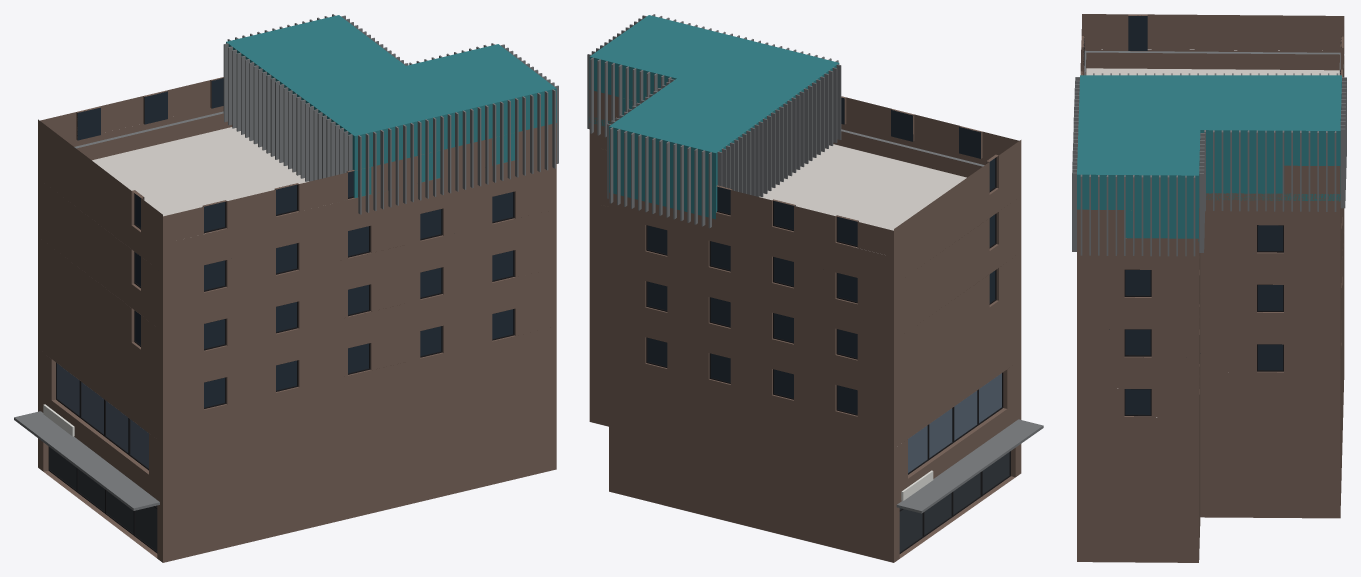
File: cubic525.glb
3 renders of one model, left to right at view 1: azimuth 30°, elevation 25°; view 2: azimuth 150°, elevation 25°; view 3: azimuth 270°, elevation 25°, orthographic. The views are drawn at different scales.
Parts seen in each view (by area): view 1: cubic525; view 2: cubic525; view 3: cubic525.
Boxes of the visible parts, x1,y1,x2,y2 form: cubic525: [14, 14, 558, 562]; cubic525: [587, 14, 1043, 562]; cubic525: [1072, 14, 1346, 562].
Size of the model in its own units: 25.69 by 22.1 by 14.2.
